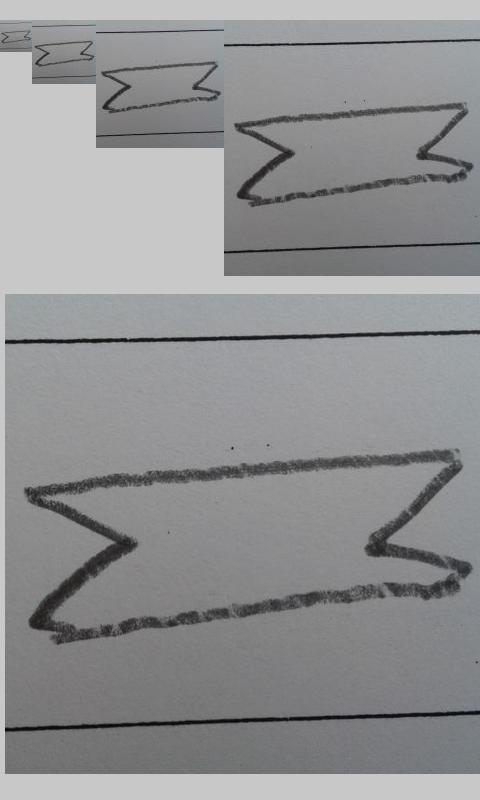edit_text: (25, 447, 473, 642), (234, 103, 472, 203), (101, 61, 220, 112), (35, 41, 94, 67), (1, 30, 31, 44)
